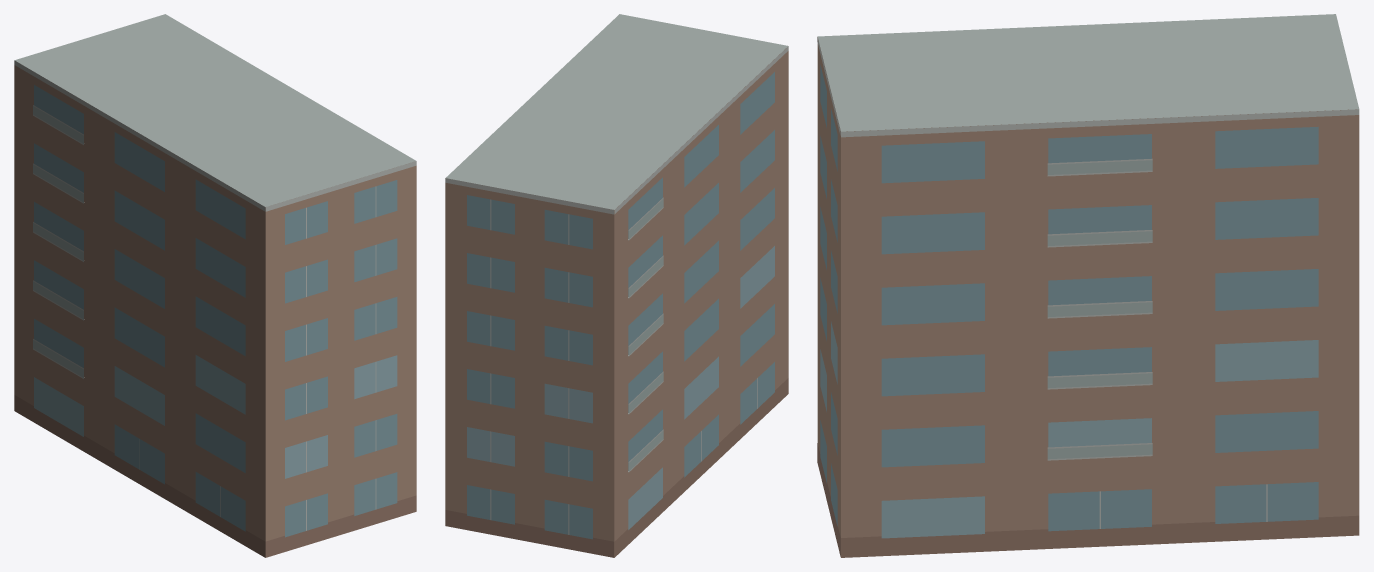
File: survey-upis-33041775.glb
The picture shows the model from 3 angles, left to right: view 1: azimuth 30°, elevation 25°; view 2: azimuth 150°, elevation 25°; view 3: azimuth 270°, elevation 25°; orthographic projection. The views are drawn at different scales.
Visible parts, largest first — view 1: survey-upis-33041775.tmp; view 2: survey-upis-33041775.tmp; view 3: survey-upis-33041775.tmp.
Part boxes in pixels (x1=…): survey-upis-33041775.tmp: x1=14, y1=14, x2=416, y2=557; survey-upis-33041775.tmp: x1=445, y1=14, x2=788, y2=557; survey-upis-33041775.tmp: x1=817, y1=14, x2=1359, y2=557.
Size of the model in its own units: 10.85 by 18.3 by 21.09.
